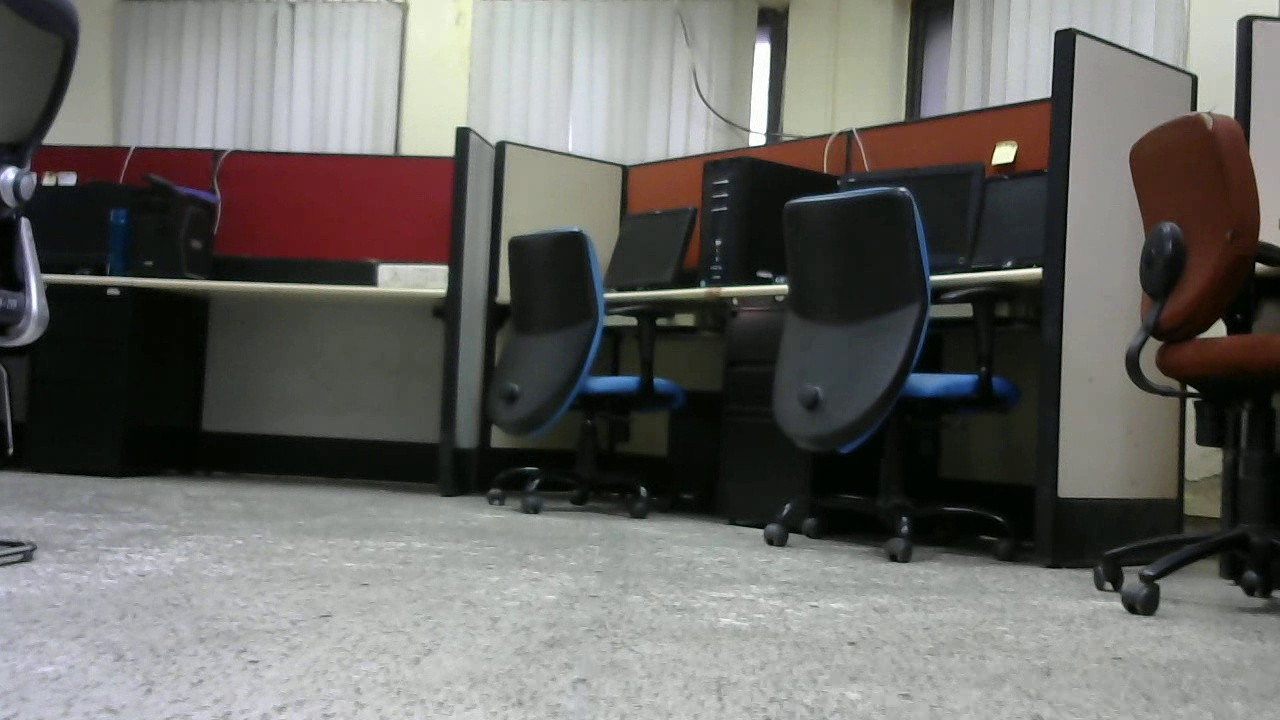chair: (738, 184, 1021, 568), (1090, 110, 1280, 620), (481, 225, 686, 520)
